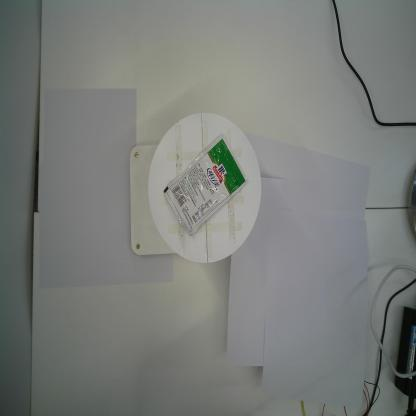Seasoner: (163, 133, 248, 237)
